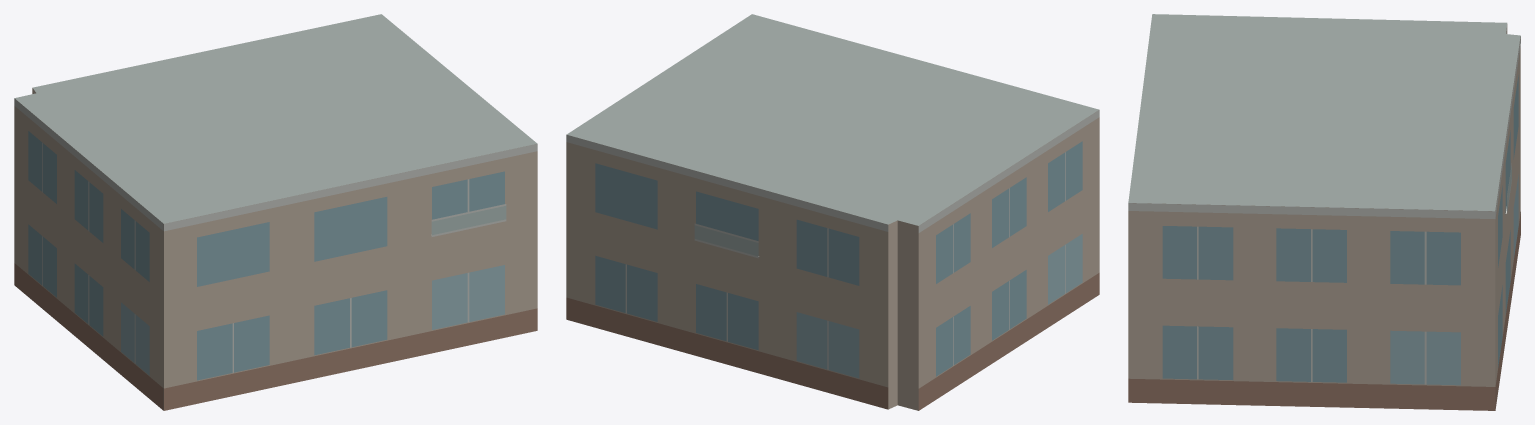
File: survey-upis-32863872.glb
The picture shows the model from 3 angles, left to right: view 1: azimuth 30°, elevation 25°; view 2: azimuth 150°, elevation 25°; view 3: azimuth 270°, elevation 25°; orthographic projection. The views are drawn at different scales.
Parts seen in each view (by area): view 1: survey-upis-32863872.tmp; view 2: survey-upis-32863872.tmp; view 3: survey-upis-32863872.tmp.
Boxes of the visible parts, x1=… form: survey-upis-32863872.tmp: x1=14, y1=14, x2=537, y2=410; survey-upis-32863872.tmp: x1=566, y1=14, x2=1099, y2=410; survey-upis-32863872.tmp: x1=1128, y1=14, x2=1520, y2=410.
Size of the model in its own units: 12.93 by 6.1 by 10.88.
